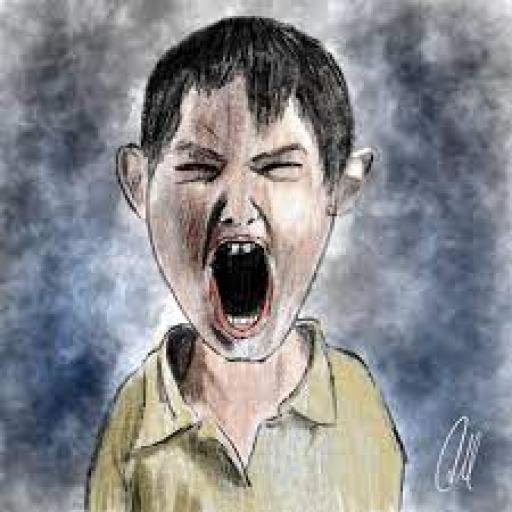person: (82, 15, 409, 510)
